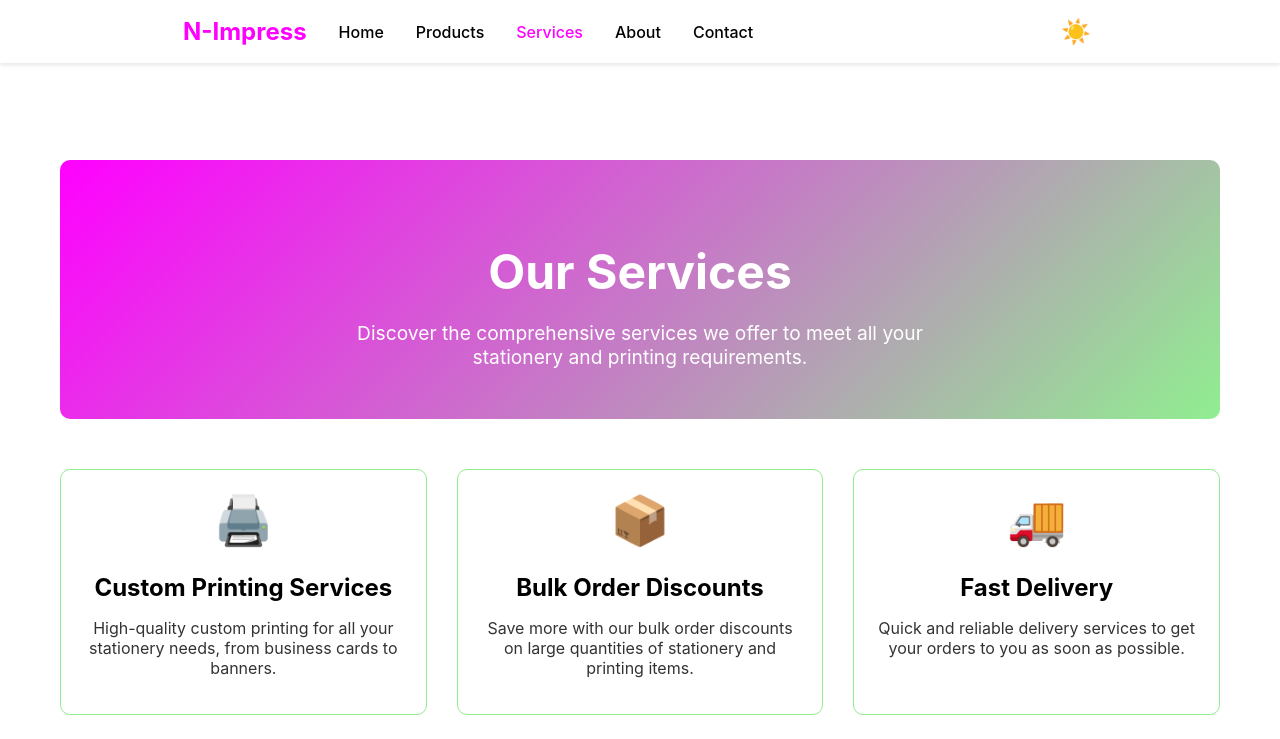
Test case: App Routing › navigates to About page
Click the link "About". click: click(638, 32)
box: [615,22,661,42]
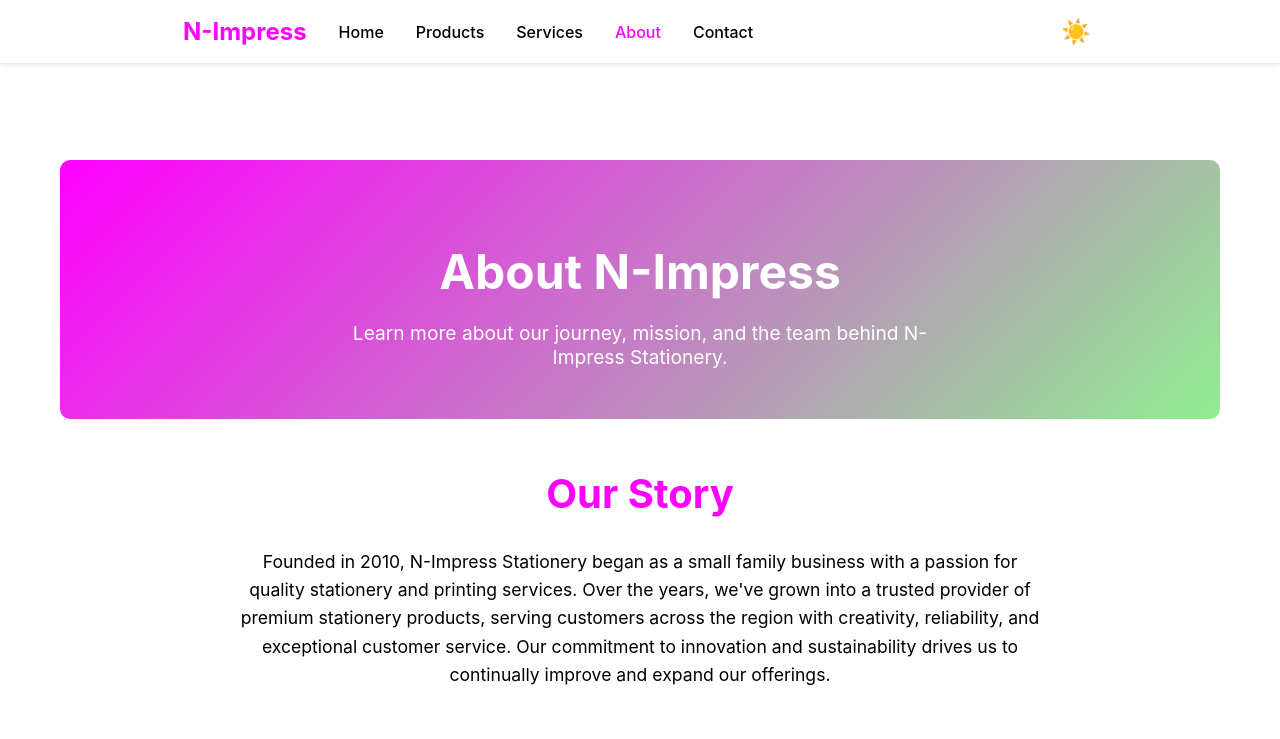
Expected: the heading "About N-Impress" is shown, [439,242,841,301]
